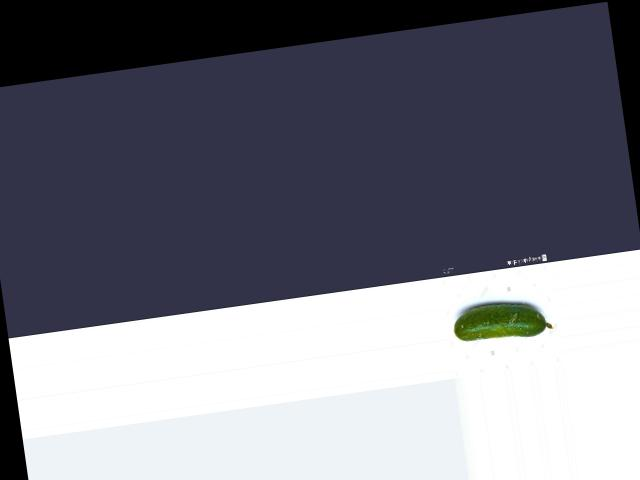cucumber: (450, 296, 553, 347)
